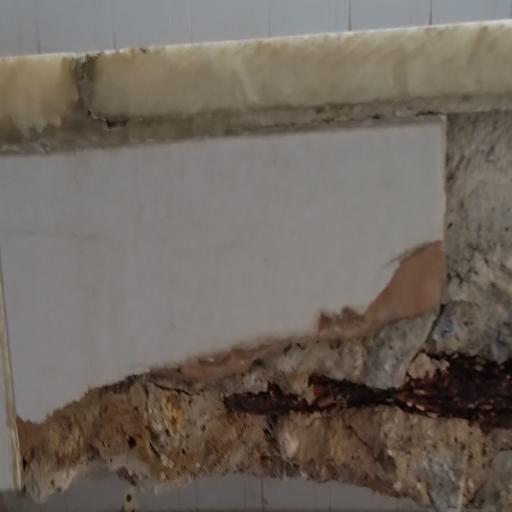spalling: (4, 200, 512, 493)
